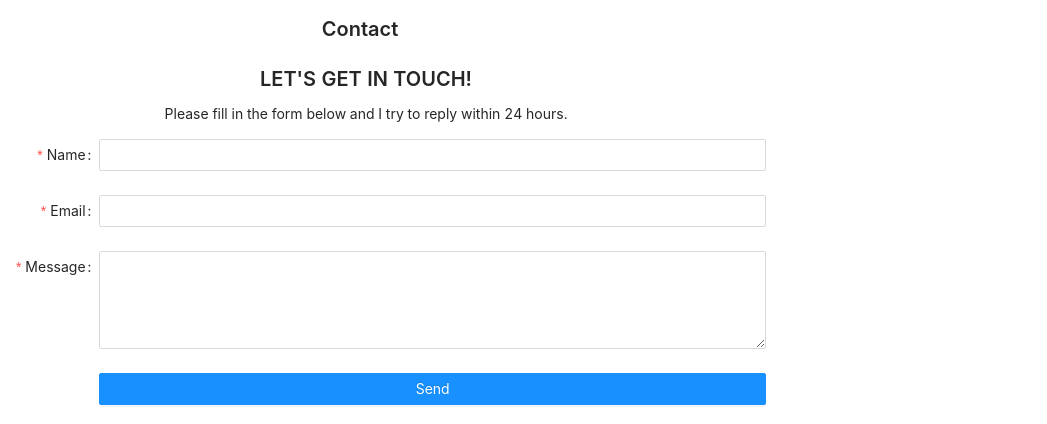
Scenario: Contact Component › can send message
Type "Test User" into the field with id "name". click: (433, 155)
box: [99,139,766,171]
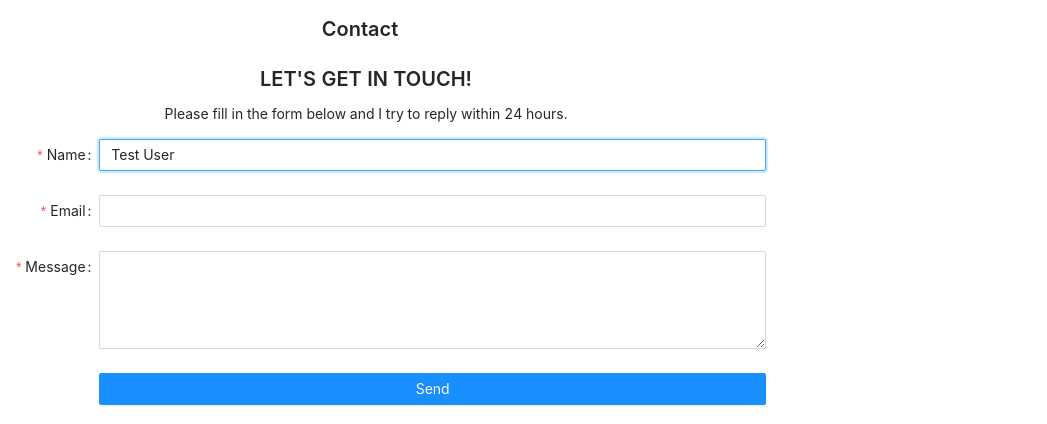
Type "test@test.com" into the field with id "email". click: (433, 211)
box: [99,195,766,227]
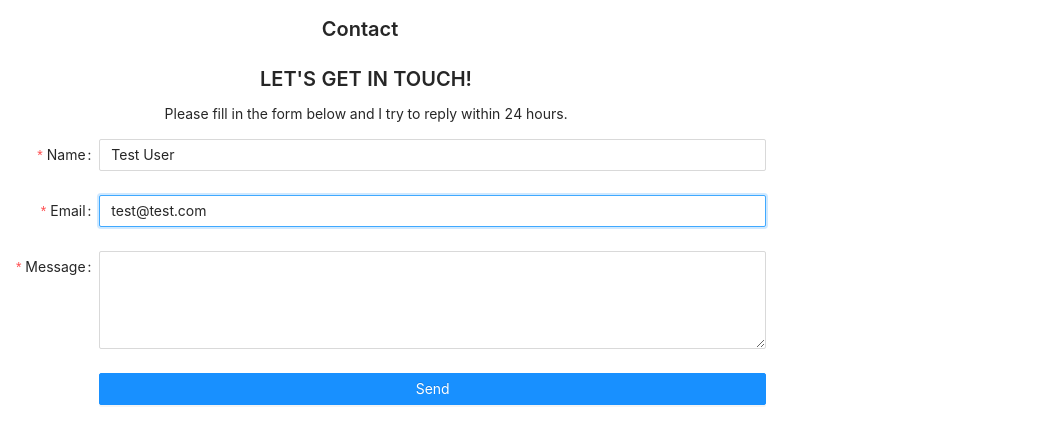
Type "Test message" into the text box with id "message". click: (433, 300)
box: [99,251,766,349]
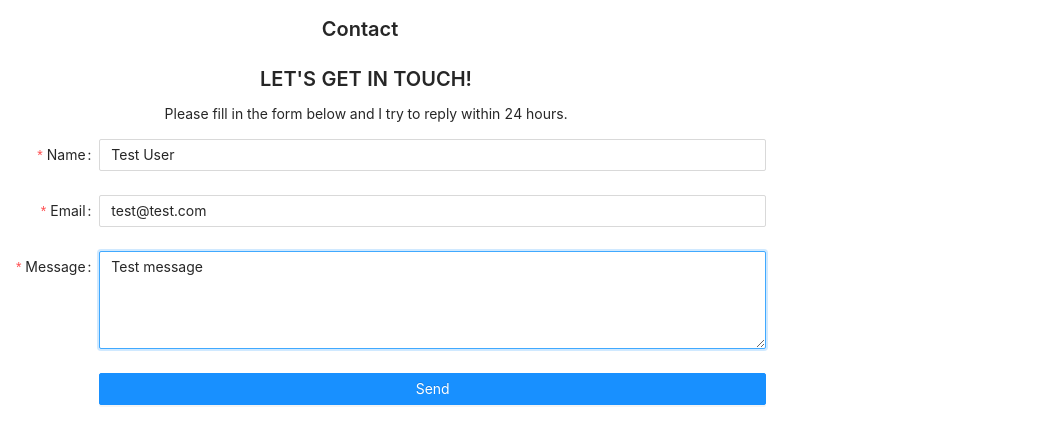
Click the button "Send". click: (433, 389)
box: [99,373,766,405]
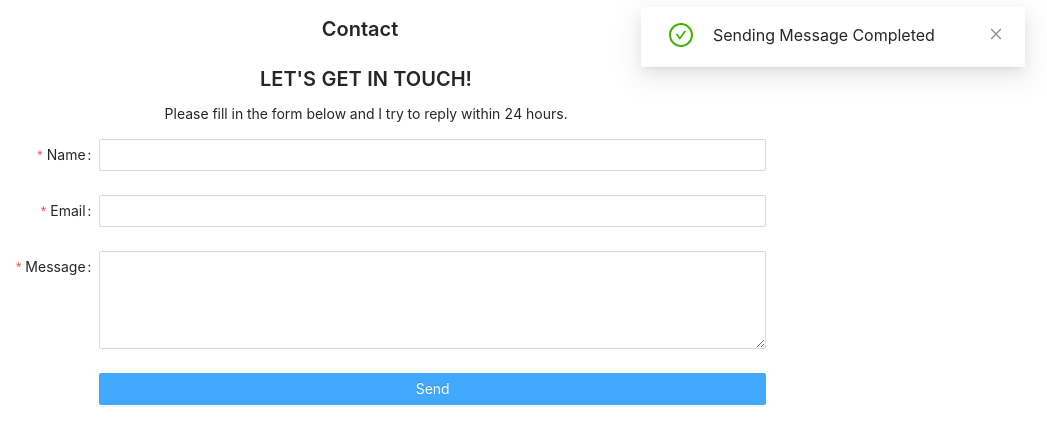
Expected: the text "Sending Message Completed" is shown, [713,25,935,45]
